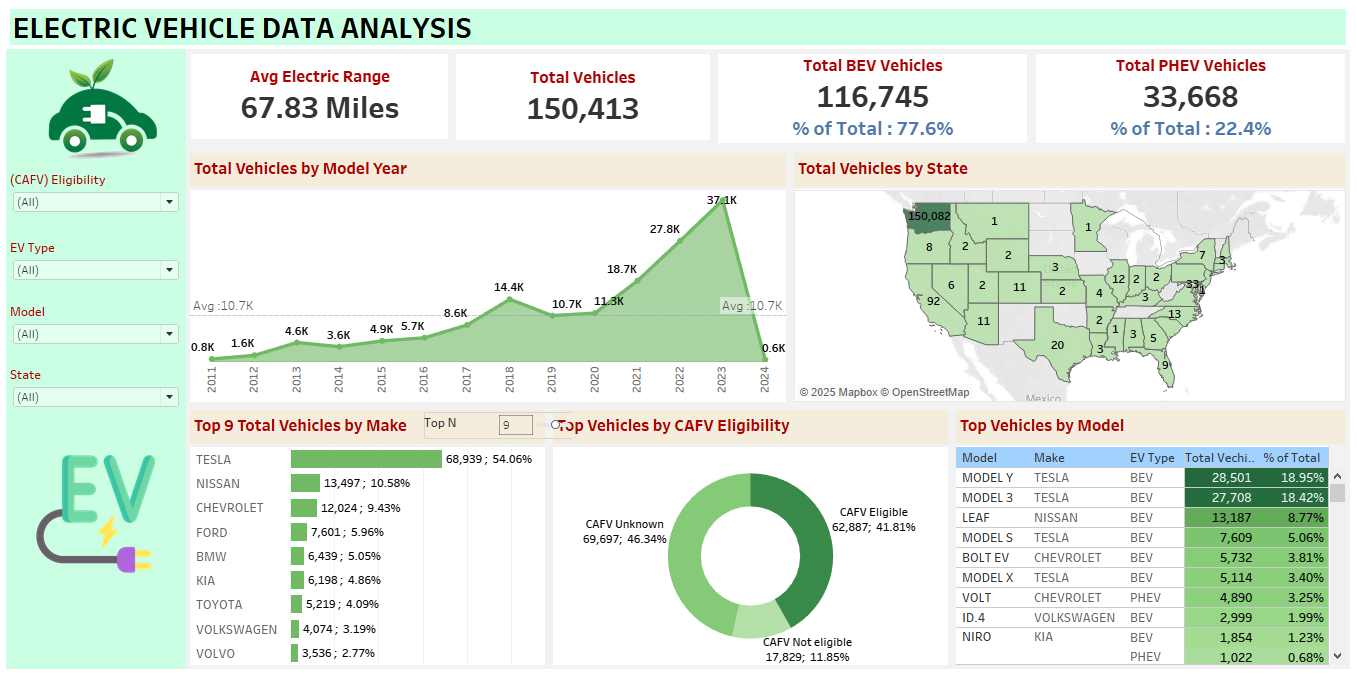

This screenshot's page, from the dashboard's own definition file:
{"tool":"tableau","page":{"name":"EV Dashboard ","canvas":[1350,680],"ordinal":0},"visuals":[{"type":"title","box":[8,8,1334,44]},{"type":"image","param":"Image/pngimg.com - electric_car_PNG58.png","box":[8,52,179.8,118]},{"type":"worksheet","title":"Avg Electric Range","mark":"Automatic","box":[188.8,53,265,98]},{"type":"worksheet","title":"Total Vehicles","mark":"Automatic","box":[453.8,53,262,98]},{"type":"worksheet","title":"Total BEV Vehicles","mark":"Automatic","box":[715.8,53,312.6,98]},{"type":"worksheet","title":"Total PHEV Vehicles","mark":"Automatic","box":[1028.4,53,312.6,98]},{"type":"worksheet","title":"Total Vehicles by Model Year","mark":"Area","rows":["Calculation_822469938425483264","Calculation_822469938425483264"],"cols":["Model Year"],"box":[187.8,152,604,257]},{"type":"worksheet","title":"Total Vehicles by State","mark":"Multipolygon","box":[791.8,152,550.2,257]},{"type":"filter","title":"Total Vehicles by Model Year","param":"[federated.0u5uyjq1swo33e1bduqcf1osm1o9].[none:Clean Alternative Fuel Vehicle (C","box":[8,170,179.8,68]},{"type":"filter","title":"Total Vehicles by Model Year","param":"[federated.0u5uyjq1swo33e1bduqcf1osm1o9].[none:Electric Vehicle Type:nk]","box":[8,238,179.8,64]},{"type":"filter","title":"Total Vehicles by Model Year","param":"[federated.0u5uyjq1swo33e1bduqcf1osm1o9].[none:Model:nk]","box":[8,302,179.8,63]},{"type":"filter","title":"Total Vehicles by Model Year","param":"[federated.0u5uyjq1swo33e1bduqcf1osm1o9].[none:State:nk]","box":[8,365,179.8,52]},{"type":"parameter","param":"[Parameters].[Parameter 1]","box":[448,407,127,27]},{"type":"worksheet","title":"Top 10 Total Vehicles by Make","mark":"Automatic","rows":["Make"],"cols":["Calculation_822469938425483264"],"box":[187.8,409,391,263]},{"type":"worksheet","title":"Top Vehicles by CAFV Eligibility","mark":"Pie","rows":["Calculation_822469938457419784","Calculation_822469938457419784"],"box":[578.8,409,365.2,263]},{"type":"worksheet","title":"Top Vehicles by Model","mark":"Square","rows":["Model","Make","Electric Vehicle Type"],"box":[944,409,398,263]},{"type":"blank","box":[8,417,179.8,95]},{"type":"image","param":"Image/ev_6944173 (1).png","box":[8,512,179.8,124]},{"type":"blank","box":[8,636,179.8,36]}]}

Visuals, with their boxes in screenshot pixels (x1, y1, x2, y2), scaled from the page's 1350x680 canvas onto the 1357x674 screenshot:
title: (x1=8, y1=8, x2=1349, y2=52)
image: (x1=8, y1=52, x2=189, y2=168)
"Avg Electric Range" worksheet: (x1=190, y1=53, x2=456, y2=150)
"Total Vehicles" worksheet: (x1=456, y1=53, x2=720, y2=150)
"Total BEV Vehicles" worksheet: (x1=720, y1=53, x2=1034, y2=150)
"Total PHEV Vehicles" worksheet: (x1=1034, y1=53, x2=1348, y2=150)
"Total Vehicles by Model Year" worksheet (Area marks): (x1=189, y1=151, x2=796, y2=405)
"Total Vehicles by State" worksheet (Multipolygon marks): (x1=796, y1=151, x2=1349, y2=405)
"Total Vehicles by Model Year" filter: (x1=8, y1=168, x2=189, y2=236)
"Total Vehicles by Model Year" filter: (x1=8, y1=236, x2=189, y2=299)
"Total Vehicles by Model Year" filter: (x1=8, y1=299, x2=189, y2=362)
"Total Vehicles by Model Year" filter: (x1=8, y1=362, x2=189, y2=413)
parameter: (x1=450, y1=403, x2=578, y2=430)
"Top 10 Total Vehicles by Make" worksheet: (x1=189, y1=405, x2=582, y2=666)
"Top Vehicles by CAFV Eligibility" worksheet (Pie marks): (x1=582, y1=405, x2=949, y2=666)
"Top Vehicles by Model" worksheet (Square marks): (x1=949, y1=405, x2=1349, y2=666)
blank: (x1=8, y1=413, x2=189, y2=507)
image: (x1=8, y1=507, x2=189, y2=630)
blank: (x1=8, y1=630, x2=189, y2=666)
